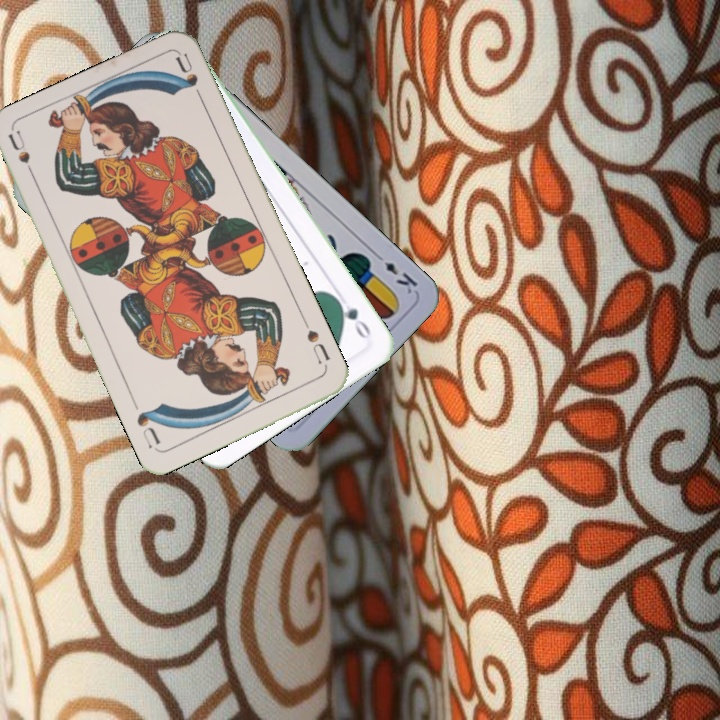EK: (370, 248, 420, 297)
GO: (331, 293, 373, 344)
SU: (5, 128, 40, 186), (299, 315, 332, 371)
